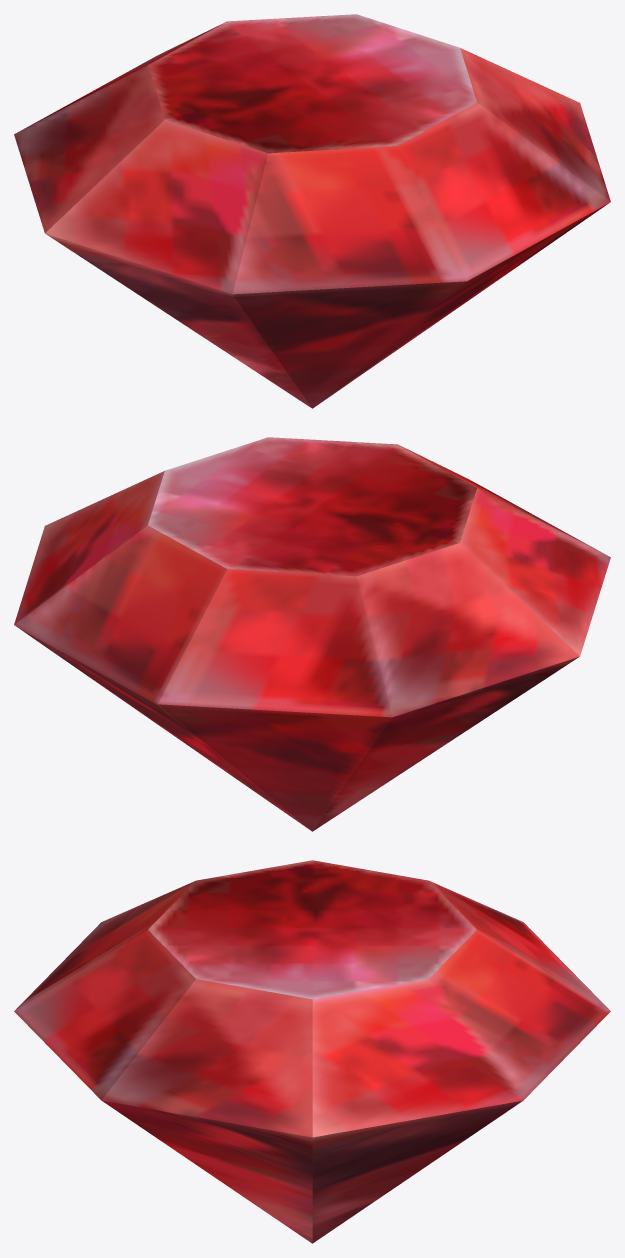
Rendered from RubyPrefab.fbx.
3 views of the same model, one above another, from view 1: azimuth 30°, elevation 25°; view 2: azimuth 150°, elevation 25°; view 3: azimuth 270°, elevation 25° (orthographic). The views are drawn at different scales.
Visible parts, largest first — view 1: RubyPrefab; view 2: RubyPrefab; view 3: RubyPrefab.
Part boxes in pixels (<box>): RubyPrefab: <box>14,14,610,408</box>; RubyPrefab: <box>14,437,610,831</box>; RubyPrefab: <box>14,860,610,1243</box>.
Bounding box in the file's own units: 0.1071 × 0.0622 × 0.1071.
Materials: 1 (1 with a texture image).
